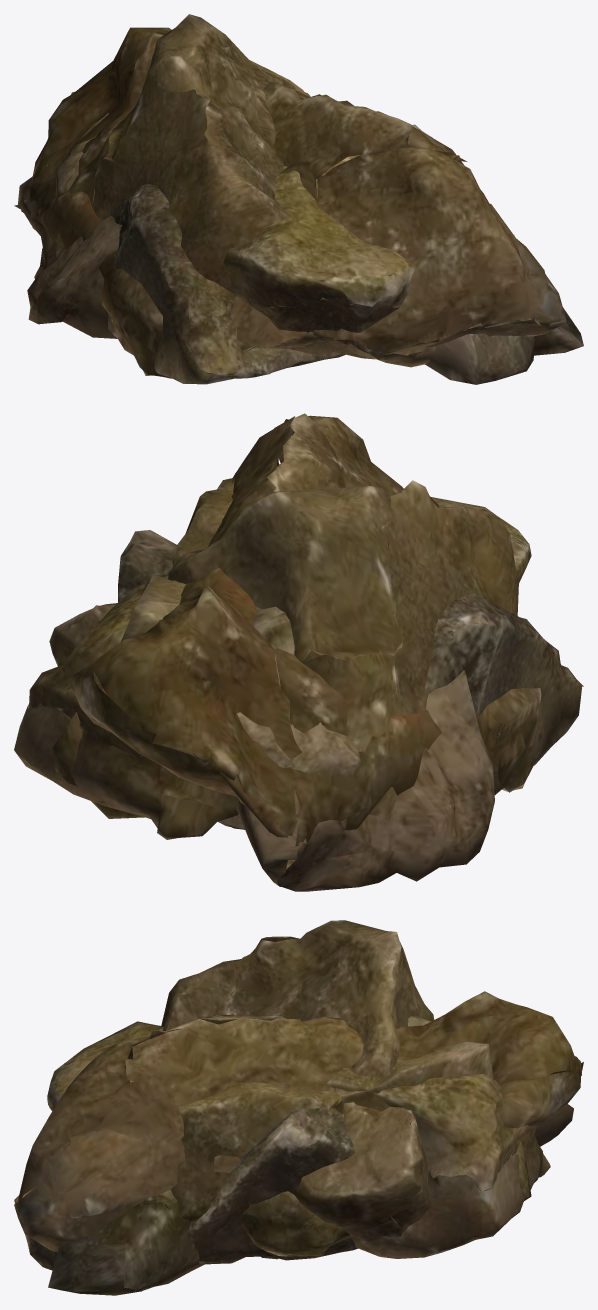
The model's file is rocks_big.glb.
3 views of the same model, one above another, from view 1: azimuth 30°, elevation 25°; view 2: azimuth 150°, elevation 25°; view 3: azimuth 270°, elevation 25° (orthographic). The views are drawn at different scales.
Parts seen in each view (by area): view 1: rock_big_1, rock_big_4, rock_big_5, rock_big_3, rock_big_2, rock_big_6; view 2: rock_big_1, rock_big_4, rock_big_2, rock_big_5, rock_big_3, rock_big_6; view 3: rock_big_1, rock_big_4, rock_big_5, rock_big_6, rock_big_2, rock_big_3.
Boxes of the visible parts, x1,y1,x2,y2 form: rock_big_1: [22, 27, 566, 378]; rock_big_4: [56, 14, 321, 296]; rock_big_5: [55, 92, 415, 355]; rock_big_3: [108, 124, 432, 384]; rock_big_2: [14, 109, 583, 384]; rock_big_6: [249, 60, 436, 367]; rock_big_1: [67, 413, 541, 845]; rock_big_4: [49, 480, 518, 821]; rock_big_2: [232, 558, 494, 891]; rock_big_5: [14, 497, 531, 839]; rock_big_3: [118, 530, 583, 829]; rock_big_6: [52, 477, 500, 818]; rock_big_1: [14, 991, 583, 1259]; rock_big_4: [161, 920, 434, 1248]; rock_big_5: [47, 1021, 550, 1258]; rock_big_6: [98, 1041, 531, 1256]; rock_big_2: [25, 1015, 573, 1295]; rock_big_3: [188, 1107, 357, 1264].
Bounding box in the file's own units: 2.65 × 1.77 × 3.39.
1 material, 1 textured.
